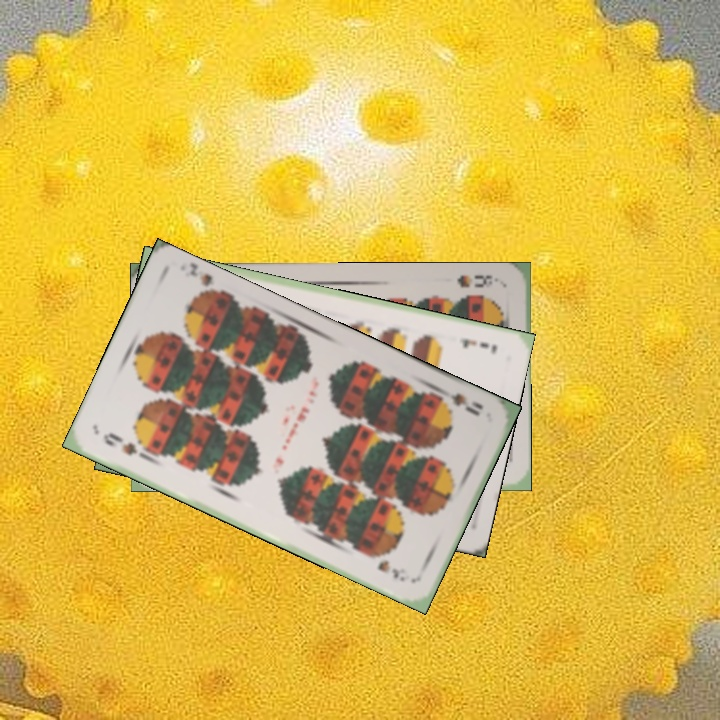E7: (457, 334, 500, 357)
S8: (453, 271, 504, 290)
S9: (433, 384, 486, 419), (99, 428, 152, 462)
